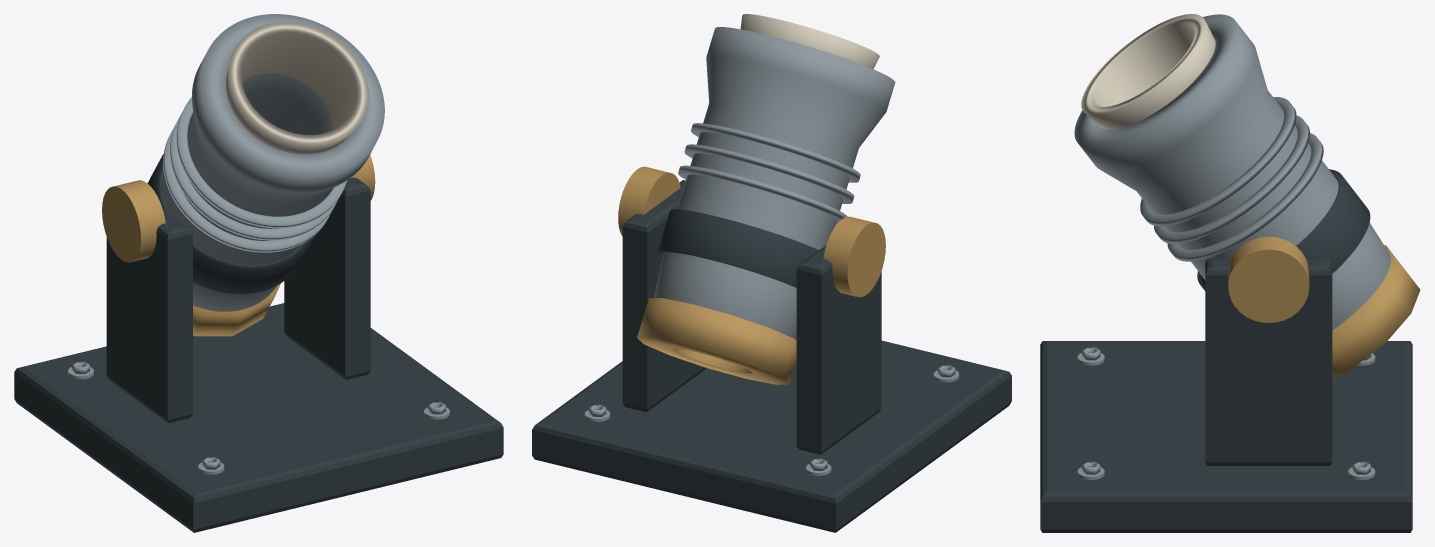
Rendered from lance-nozzle.glb.
3 views of the same model, side by side, from view 1: azimuth 30°, elevation 25°; view 2: azimuth 150°, elevation 25°; view 3: azimuth 270°, elevation 25° (orthographic). The views are drawn at different scales.
Parts seen in each view (by area): view 1: Mounting shoe, Cradle cheek (×2), Open machined nozzle shell, Refractory mouth liner, Cooling collar (×3), Trunnion pivot, Dark grip band, Bronze base coupling; view 2: Mounting shoe, Open machined nozzle shell, Cradle cheek (×2), Bronze base coupling, Dark grip band, Trunnion pivot (×2), Cooling collar (×3), Refractory mouth liner; view 3: Mounting shoe, Open machined nozzle shell, Cradle cheek, Refractory mouth liner, Cooling collar (×3), Trunnion pivot, Bronze base coupling, Dark grip band.
Part boxes in pixels (x1,y1,x2,y2): Mounting shoe: [14, 303, 503, 532]; Cradle cheek (×2): [106, 177, 370, 423]; Open machined nozzle shell: [161, 14, 384, 311]; Refractory mouth liner: [226, 22, 368, 154]; Cooling collar (×3): [163, 97, 347, 252]; Trunnion pivot: [102, 180, 165, 262]; Dark grip band: [147, 154, 315, 293]; Bronze base coupling: [193, 283, 280, 336]; Mounting shoe: [532, 340, 1011, 532]; Open machined nozzle shell: [654, 27, 895, 340]; Cradle cheek (×2): [622, 180, 881, 454]; Bronze base coupling: [637, 298, 796, 384]; Dark grip band: [658, 209, 818, 287]; Trunnion pivot (×2): [618, 166, 885, 297]; Cooling collar (×3): [678, 123, 860, 224]; Refractory mouth liner: [740, 14, 879, 69]; Mounting shoe: [1040, 341, 1412, 532]; Open machined nozzle shell: [1074, 14, 1390, 329]; Cradle cheek: [1205, 259, 1332, 465]; Refractory mouth liner: [1081, 14, 1215, 129]; Cooling collar (×3): [1140, 97, 1323, 261]; Trunnion pivot: [1228, 236, 1309, 322]; Bronze base coupling: [1332, 245, 1420, 378]; Dark grip band: [1197, 169, 1370, 290].
Bounding box in the file's own units: 0.22 × 0.2815 × 0.2247.
